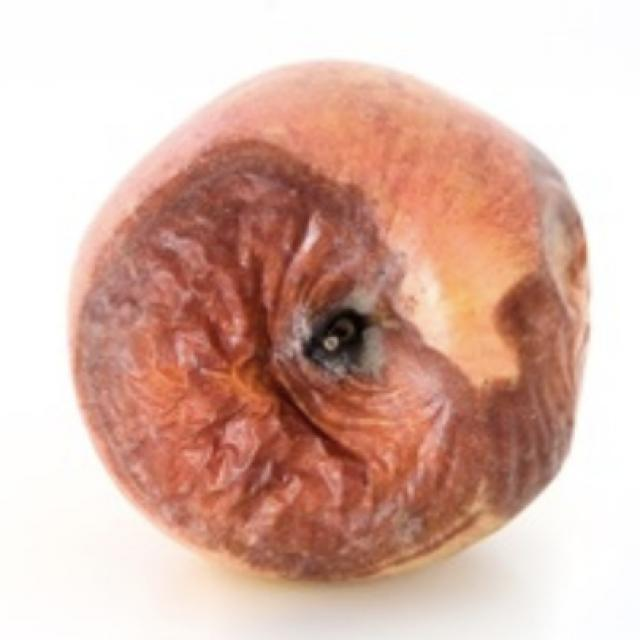Rotten: (60, 57, 593, 588)
